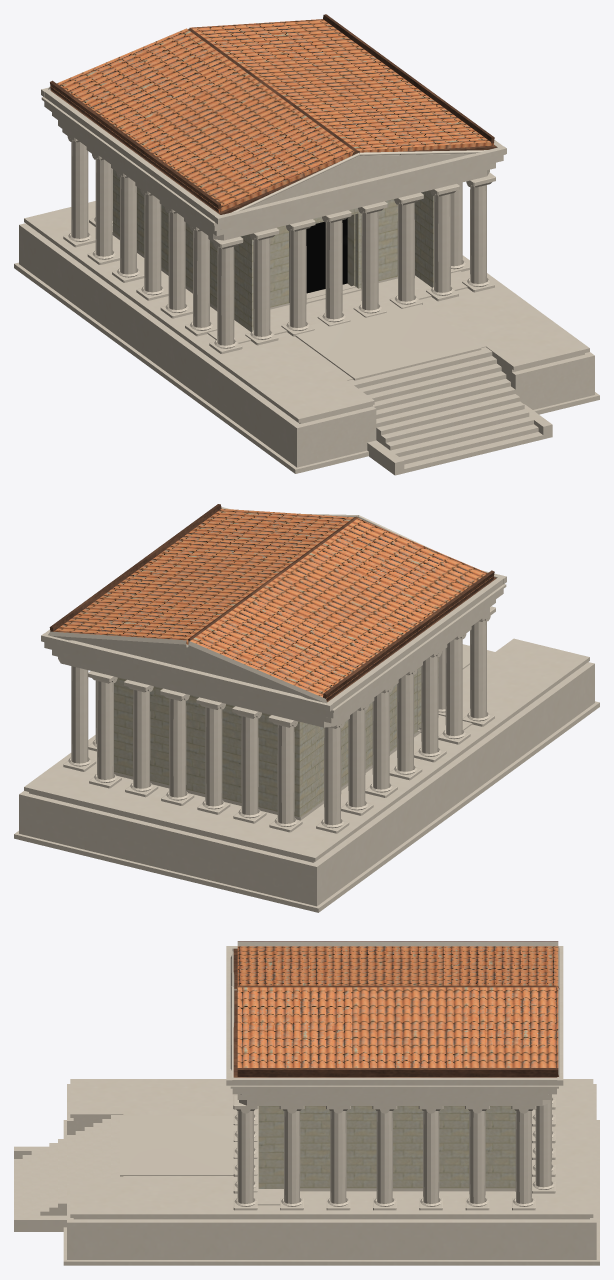
Rendered from Temple.fbx.
3 views of the same model, one above another, from view 1: azimuth 30°, elevation 25°; view 2: azimuth 150°, elevation 25°; view 3: azimuth 270°, elevation 25° (orthographic). The views are drawn at different scales.
Visible parts, largest first — view 1: Temple; view 2: Temple; view 3: Temple.
Part boxes in pixels (x1,y1,x2,y2): Temple: [14, 14, 599, 475]; Temple: [14, 504, 599, 912]; Temple: [14, 941, 599, 1265].
Size of the model in its own units: 25.3 by 17.47 by 44.25.
